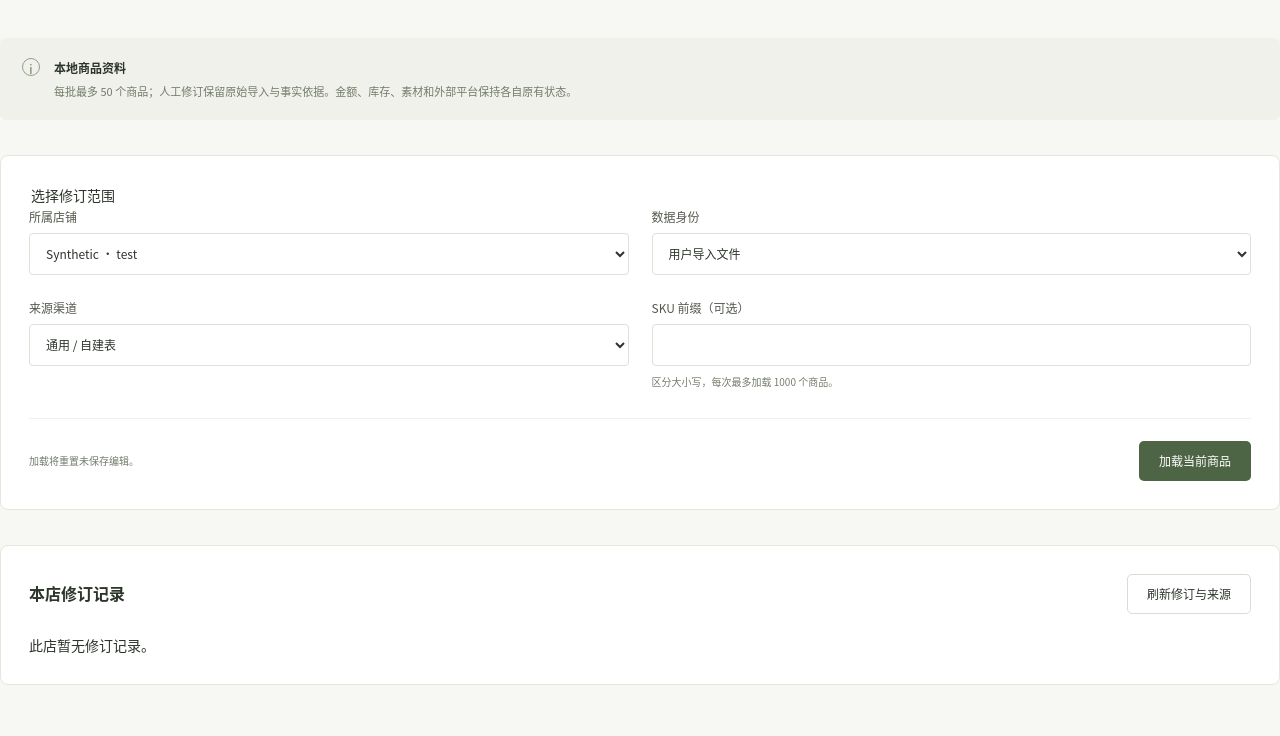
Test: drops unsaved product text if the source revision changed
Select "合成测试数据" in the dropdown with id "edit-identity". click: (951, 254)
box: [652,233,1251,275]
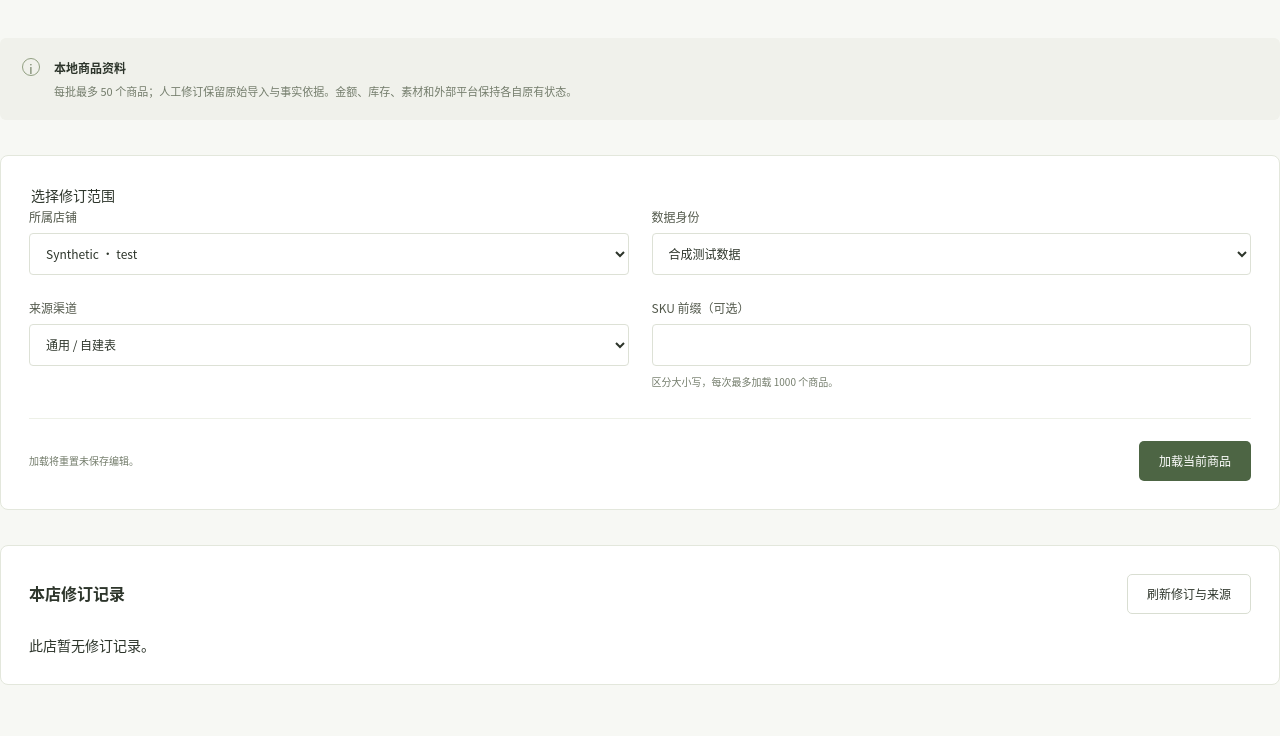
Submit the form, box [29,184,1251,481]
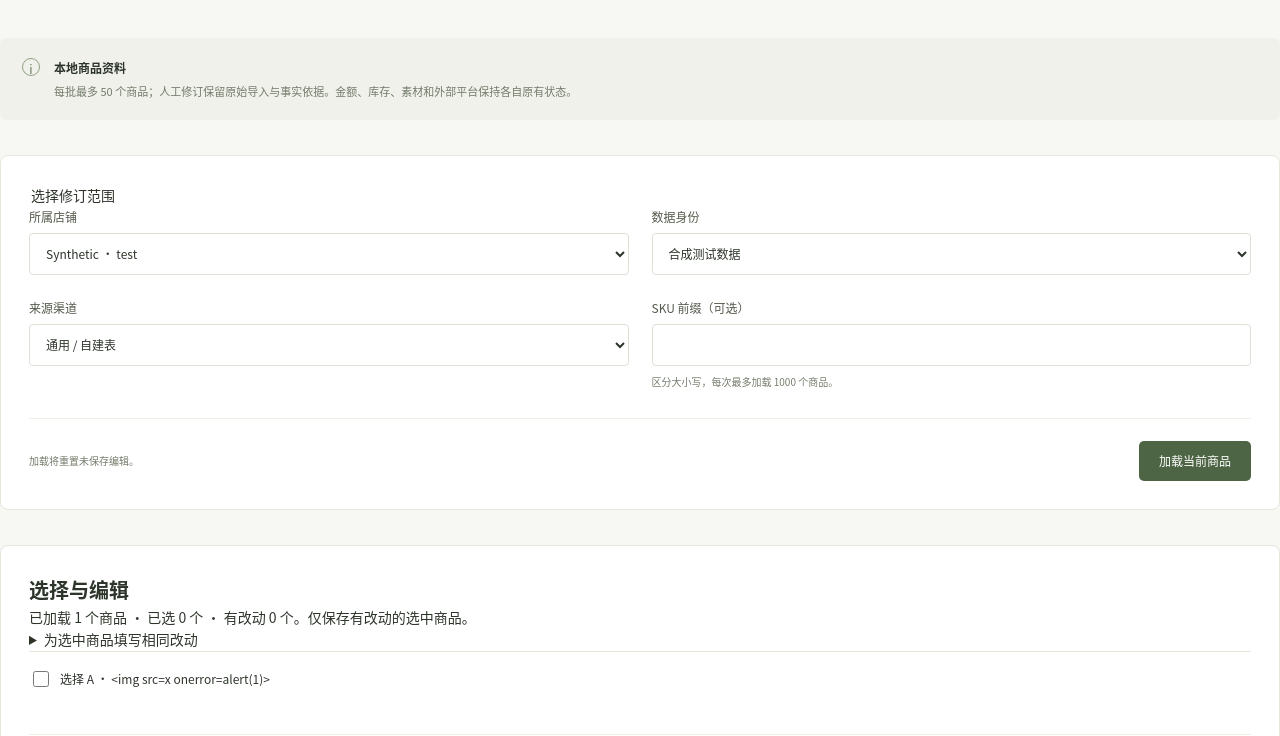
Click the checkbox labelled "选择 A · <img src=x onerror=alert(1)>". click: (41, 679)
box: [33,671,49,687]
(page scrolled)
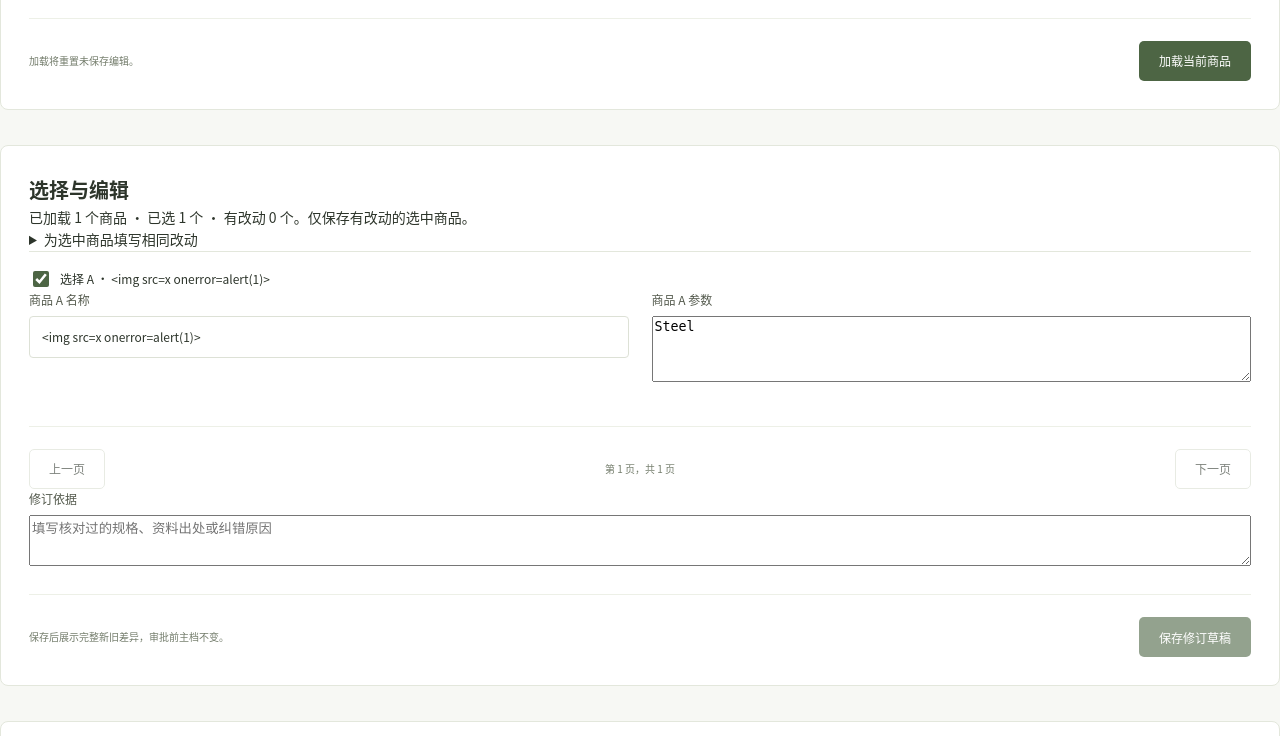
Replace the text in the field with id "edit-name-1" with "New Cup". click: (329, 337)
box: [29,316,628,358]
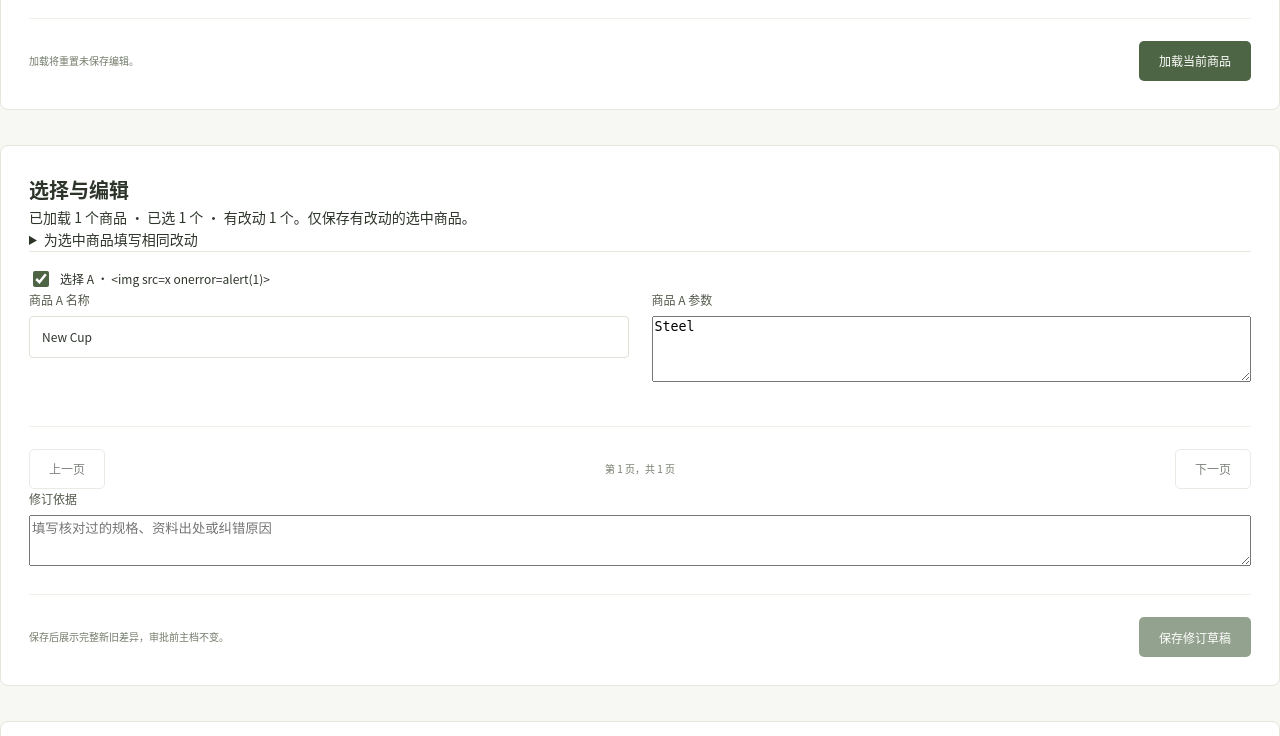
Type "Known source" into the text box with id "edit-reason". click: (640, 541)
box: [29,515,1251,566]
(page scrolled)
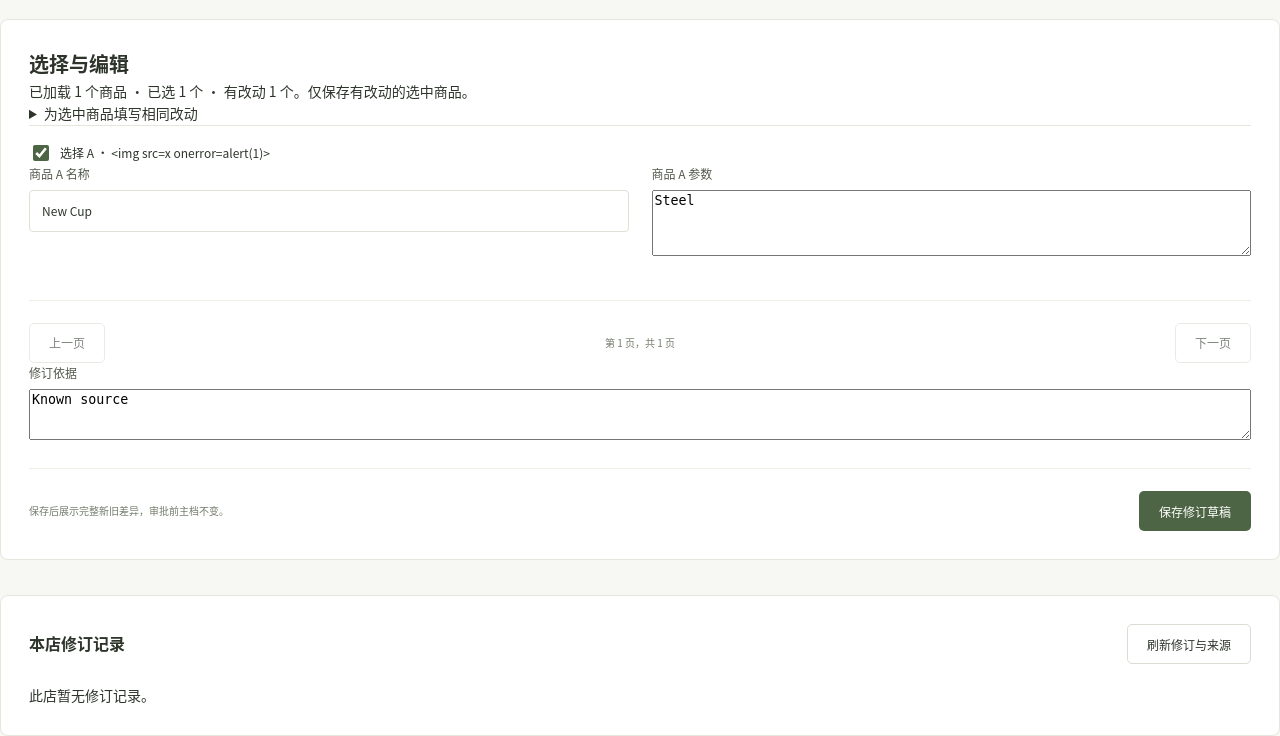
Click the button "刷新修订与来源". click: (1189, 644)
box: [1127,624,1251,664]
(page scrolled)
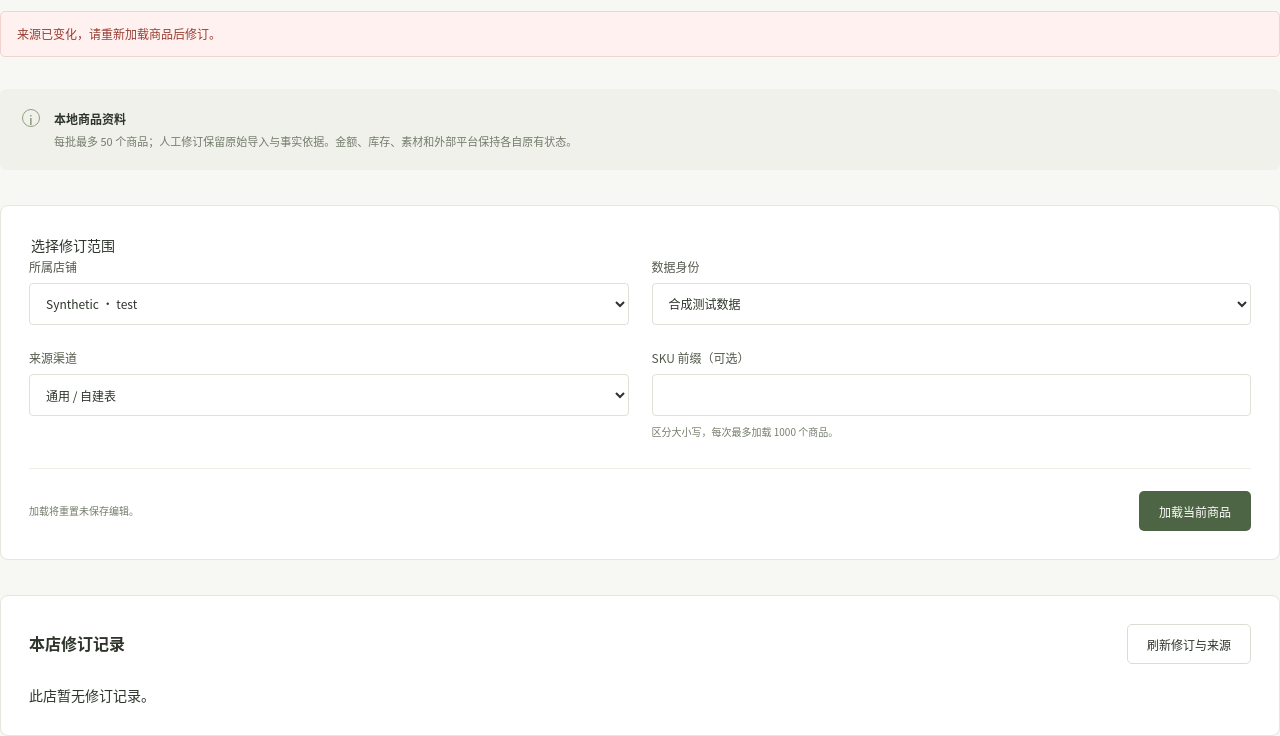
Result: the text "来源已变化，请重新加载商品后修订" is shown at [17,25,221,42]
